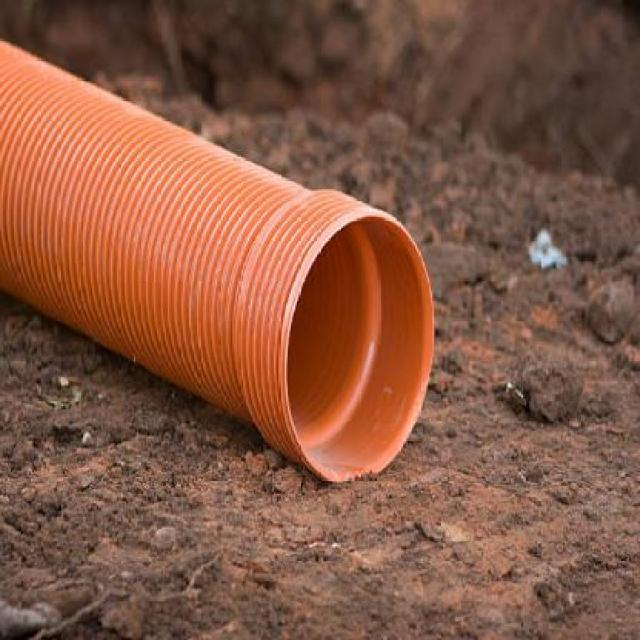pipe: (286, 212, 435, 483)
